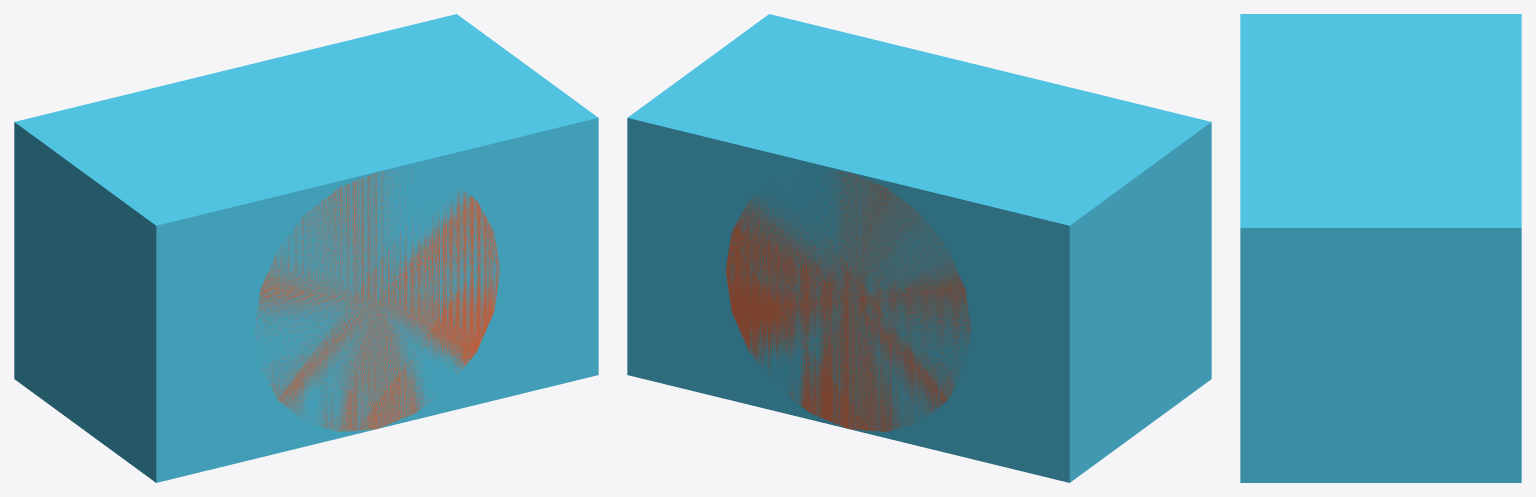
Rendered from Jarvis-QA-Model-Fixed.obj.
3 renders of one model, left to right at view 1: azimuth 30°, elevation 25°; view 2: azimuth 150°, elevation 25°; view 3: azimuth 270°, elevation 25°, orthographic.
Visible parts, largest first — view 1: Cubo_1, Cilindro_2; view 2: Cubo_1, Cilindro_2; view 3: Cubo_1.
Part boxes in pixels (x1,y1,x2,y2): Cubo_1: (14,14,598,482); Cilindro_2: (255,170,500,431); Cubo_1: (627,14,1211,482); Cilindro_2: (725,171,971,431); Cubo_1: (1240,14,1521,482).
Bounding box in the file's own units: 3.6 × 2 × 2.
